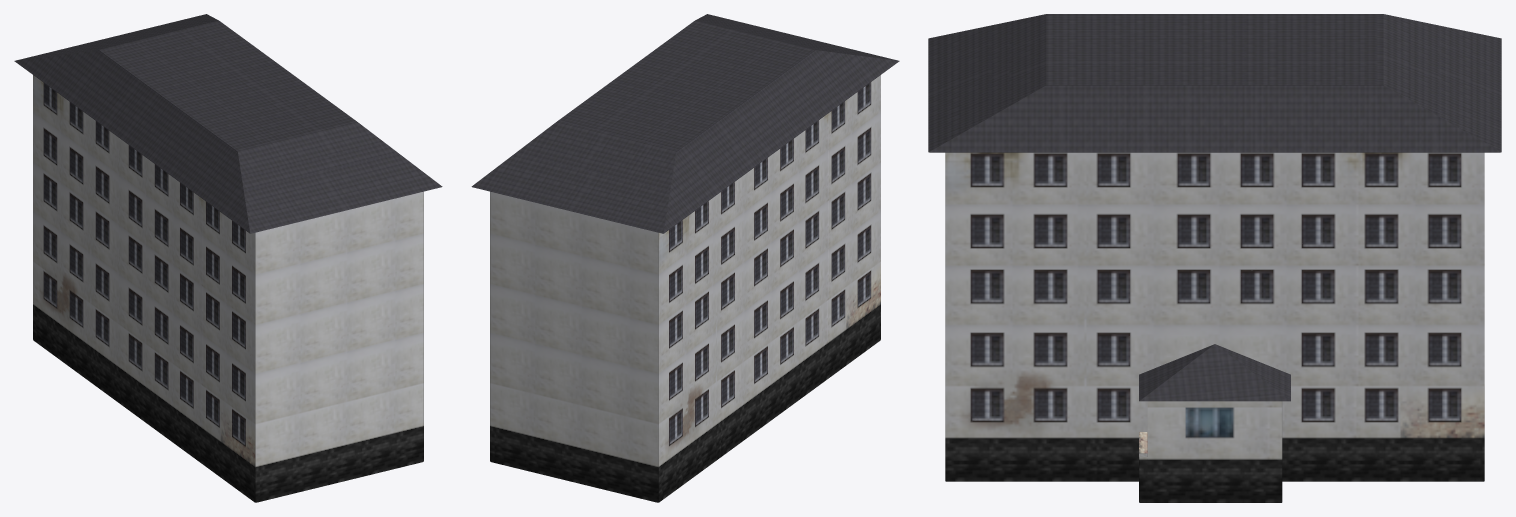
File: 5floorbuilding.fbx
3 views of the same model, side by side, from view 1: azimuth 30°, elevation 25°; view 2: azimuth 150°, elevation 25°; view 3: azimuth 270°, elevation 25° (orthographic). The views are drawn at different scales.
Visible parts, largest first — view 1: дефолт здание; view 2: дефолт здание; view 3: дефолт здание, pyramid.
Boxes of the visible parts, x1=… form: дефолт здание: x1=14, y1=14, x2=442, y2=502; дефолт здание: x1=471, y1=14, x2=899, y2=502; дефолт здание: x1=928, y1=14, x2=1501, y2=502; pyramid: x1=1139, y1=344, x2=1290, y2=401.
Size of the model in its own units: 117 by 156 by 212.
